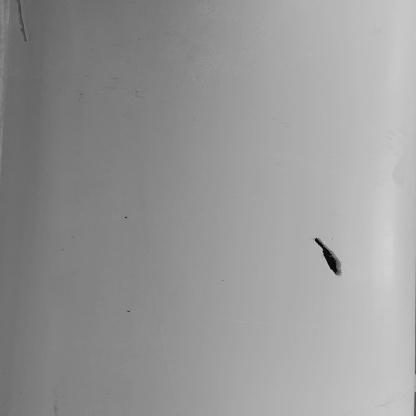kongdong: (312, 238, 348, 278)
sunshang: (8, 1, 33, 45)
